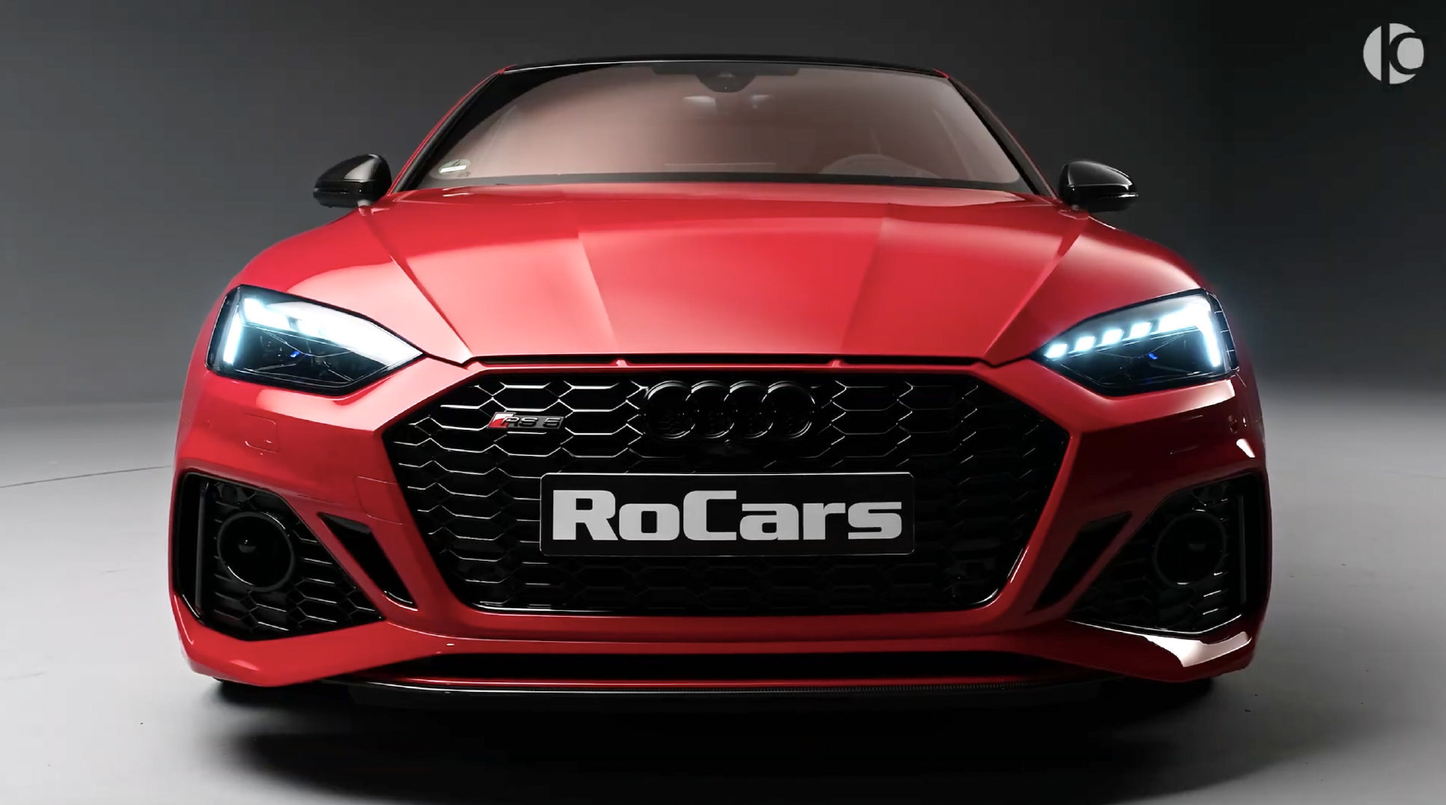other: (165, 48, 1272, 718)
